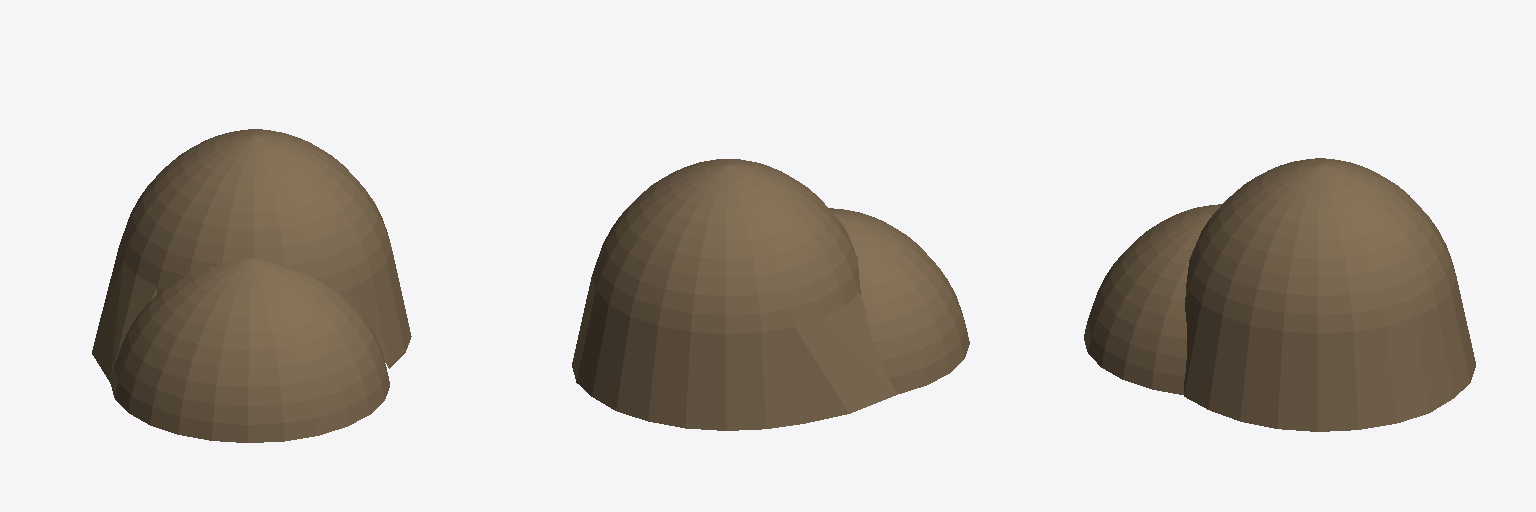
File: poop.obj
The picture shows the model from 3 angles: view 1: azimuth 30°, elevation 25°; view 2: azimuth 150°, elevation 25°; view 3: azimuth 270°, elevation 25°; orthographic projection.
Parts seen in each view (by area): view 1: Mesh1 Group1 Compost_Bins_1_1 Model, Mesh2 Group1 Compost_Bins_1_1 Model; view 2: Mesh2 Group1 Compost_Bins_1_1 Model, Mesh1 Group1 Compost_Bins_1_1 Model; view 3: Mesh2 Group1 Compost_Bins_1_1 Model, Mesh1 Group1 Compost_Bins_1_1 Model.
Part boxes in pixels (left/top/right/bottom): Mesh1 Group1 Compost_Bins_1_1 Model: left=110, top=258, right=389, bottom=442; Mesh2 Group1 Compost_Bins_1_1 Model: left=92, top=129, right=411, bottom=381; Mesh2 Group1 Compost_Bins_1_1 Model: left=572, top=159, right=897, bottom=430; Mesh1 Group1 Compost_Bins_1_1 Model: left=829, top=208, right=969, bottom=393; Mesh2 Group1 Compost_Bins_1_1 Model: left=1184, top=158, right=1475, bottom=431; Mesh1 Group1 Compost_Bins_1_1 Model: left=1084, top=204, right=1221, bottom=394.
Bounding box in the file's own units: 166 × 103 × 182.